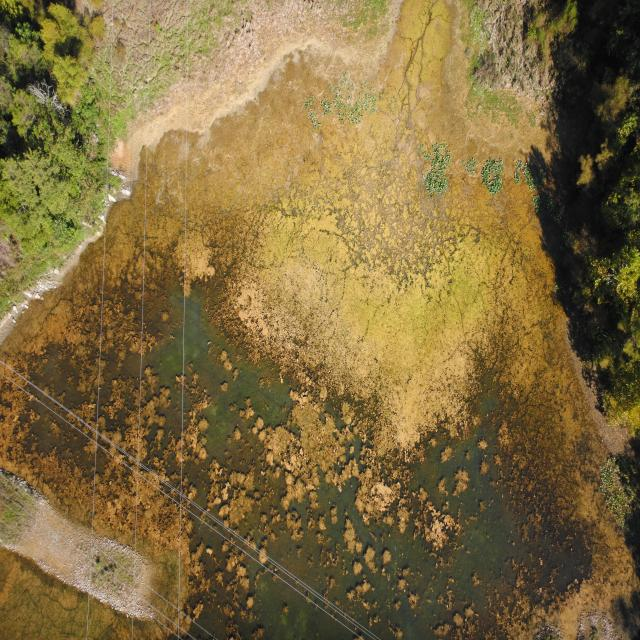Area of Interest: (4, 7, 116, 277), (568, 82, 637, 420)
